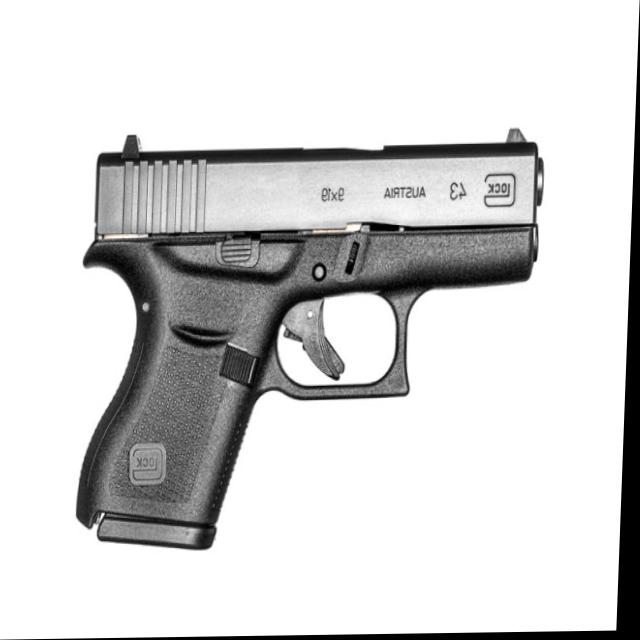handgun: (63, 120, 580, 560)
